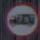Heavy Vehicles: (2, 2, 38, 39)
